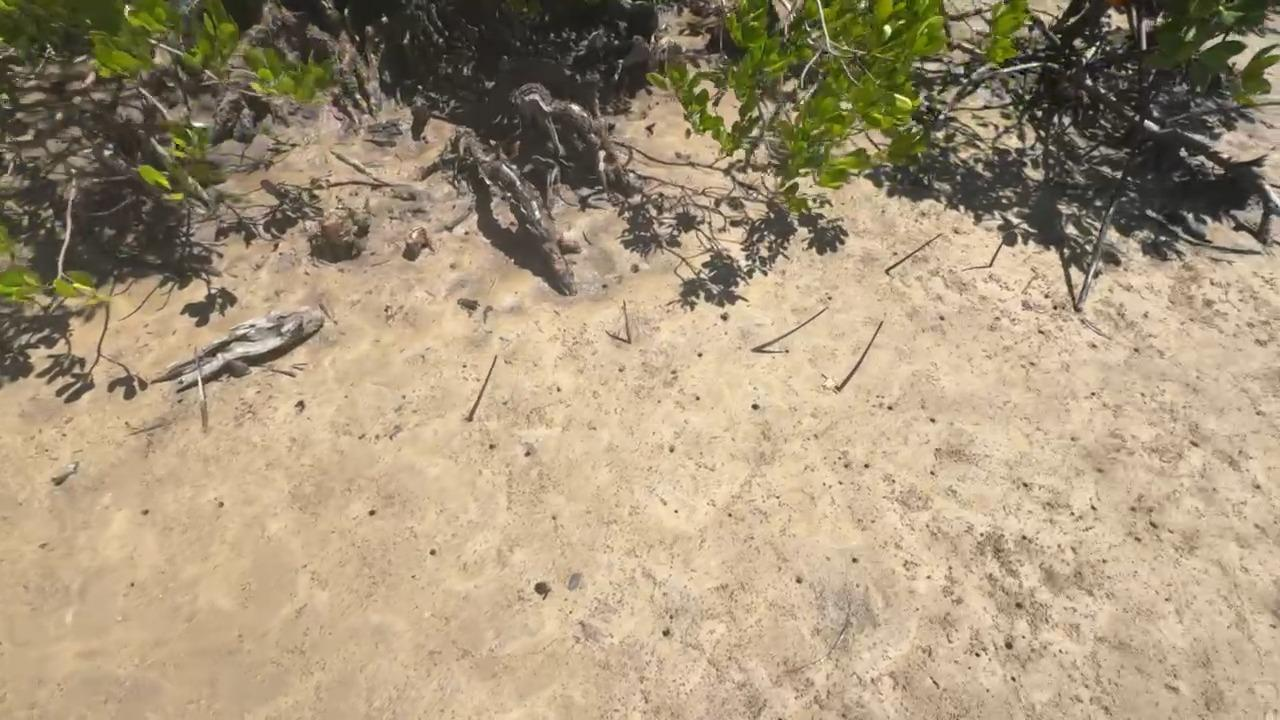Tree: (751, 306, 831, 352), (838, 320, 885, 390), (886, 233, 941, 273), (467, 355, 497, 421), (989, 236, 1008, 267), (622, 301, 632, 344)
